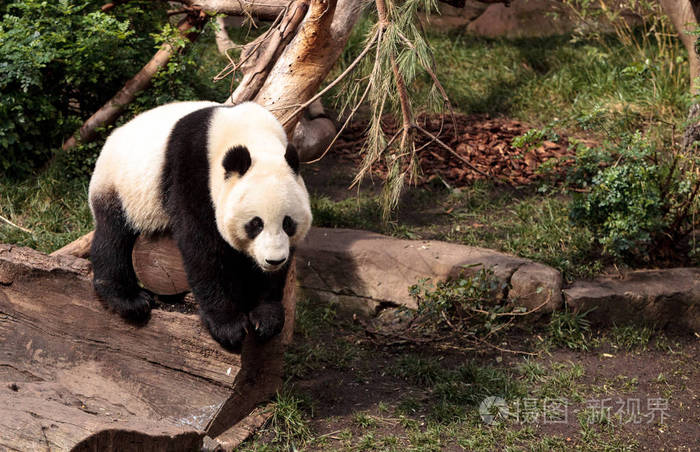panda: (70, 99, 328, 346)
